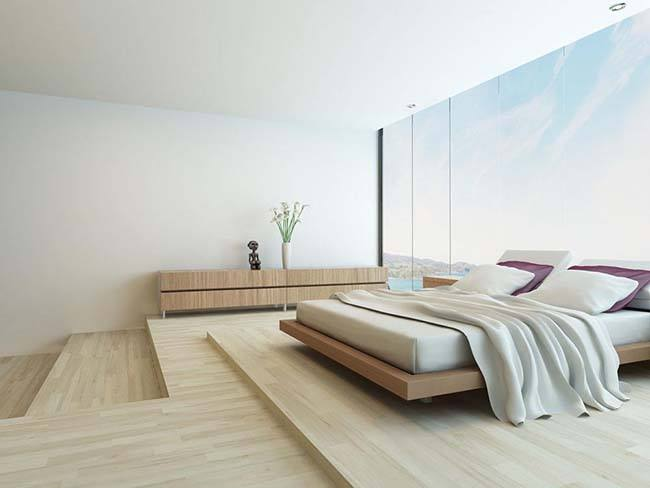床: (289, 281, 645, 422)
枕头: (454, 254, 640, 318)
灯: (604, 3, 630, 15), (405, 103, 417, 113)
